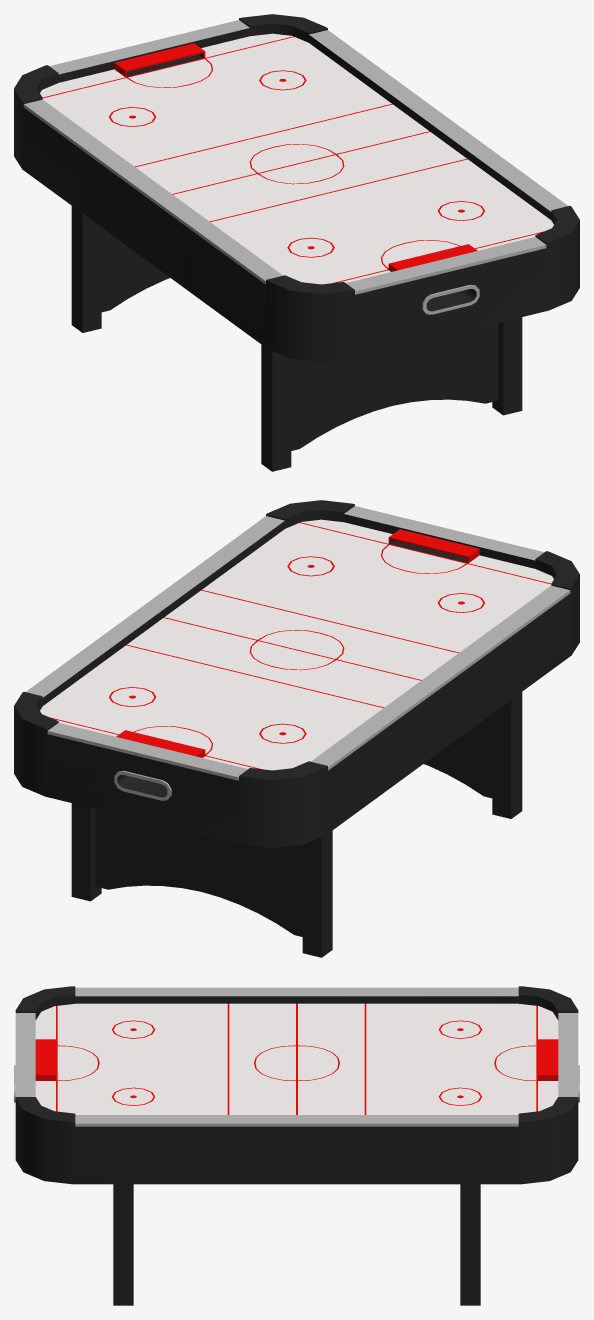
The model's file is Game_Air_Hockey_48x84.fbx.
3 views of the same model, one above another, from view 1: azimuth 30°, elevation 25°; view 2: azimuth 150°, elevation 25°; view 3: azimuth 270°, elevation 25° (orthographic). The views are drawn at different scales.
Visible parts, largest first — view 1: Air_Hockey_Quarter4, Air_Hockey_Quarter3, Air_Hockey_Quarter1, Air_Hockey_Quarter2; view 2: Air_Hockey_Quarter1, Air_Hockey_Quarter2, Air_Hockey_Quarter4, Air_Hockey_Quarter3; view 3: Air_Hockey_Quarter2, Air_Hockey_Quarter3, Air_Hockey_Quarter1, Air_Hockey_Quarter4.
Boxes of the visible parts, x1,y1,x2,y2 form: Air_Hockey_Quarter4: (145,164,451,471); Air_Hockey_Quarter3: (297,118,579,415); Air_Hockey_Quarter1: (14,43,296,332); Air_Hockey_Quarter2: (143,14,448,163); Air_Hockey_Quarter1: (142,650,448,957); Air_Hockey_Quarter2: (14,604,296,901); Air_Hockey_Quarter4: (297,529,579,818); Air_Hockey_Quarter3: (145,500,450,649); Air_Hockey_Quarter2: (297,1055,579,1305); Air_Hockey_Quarter3: (14,1055,296,1305); Air_Hockey_Quarter1: (297,986,579,1074); Air_Hockey_Quarter4: (14,986,296,1074).
Size of the model in its own units: 48 by 32.25 by 84.5.
